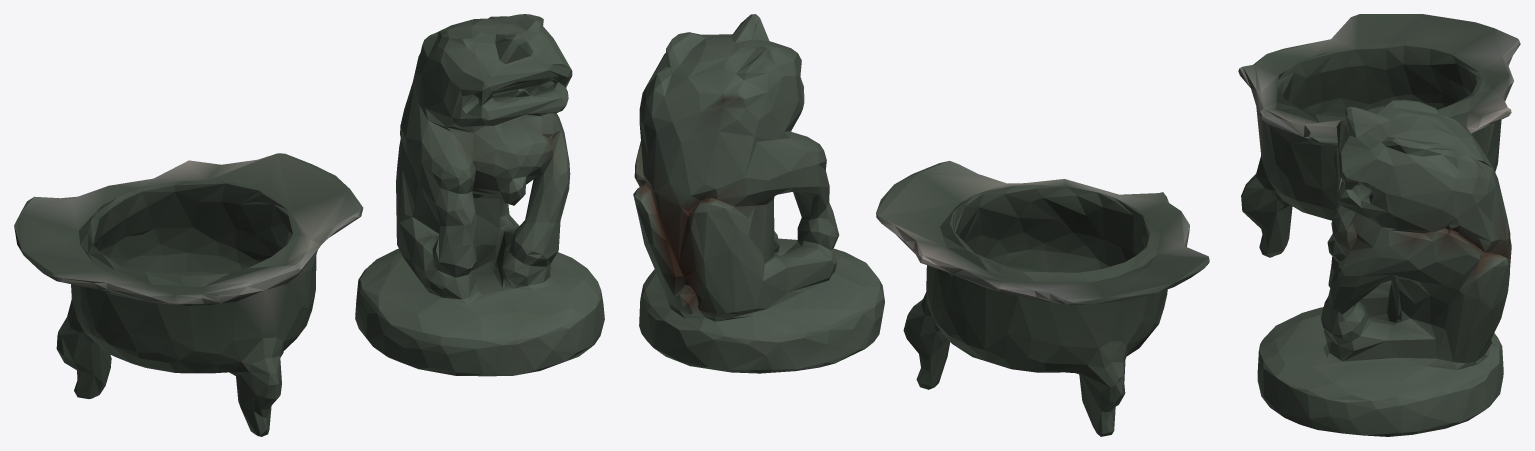
File: opened.glb
3 views of the same model, side by side, from view 1: azimuth 30°, elevation 25°; view 2: azimuth 150°, elevation 25°; view 3: azimuth 270°, elevation 25° (orthographic).
Visible parts, largest first — view 1: top_lion_M_LionIncenseBurner_top_0; view 2: top_lion_M_LionIncenseBurner_top_0; view 3: top_lion_M_LionIncenseBurner_top_0.
Part boxes in pixels (x1,y1,x2,y2): top_lion_M_LionIncenseBurner_top_0: [14, 14, 604, 436]; top_lion_M_LionIncenseBurner_top_0: [633, 14, 1209, 436]; top_lion_M_LionIncenseBurner_top_0: [1238, 14, 1520, 436].
Bounding box in the file's own units: 0.5385 × 0.2808 × 0.2453.
